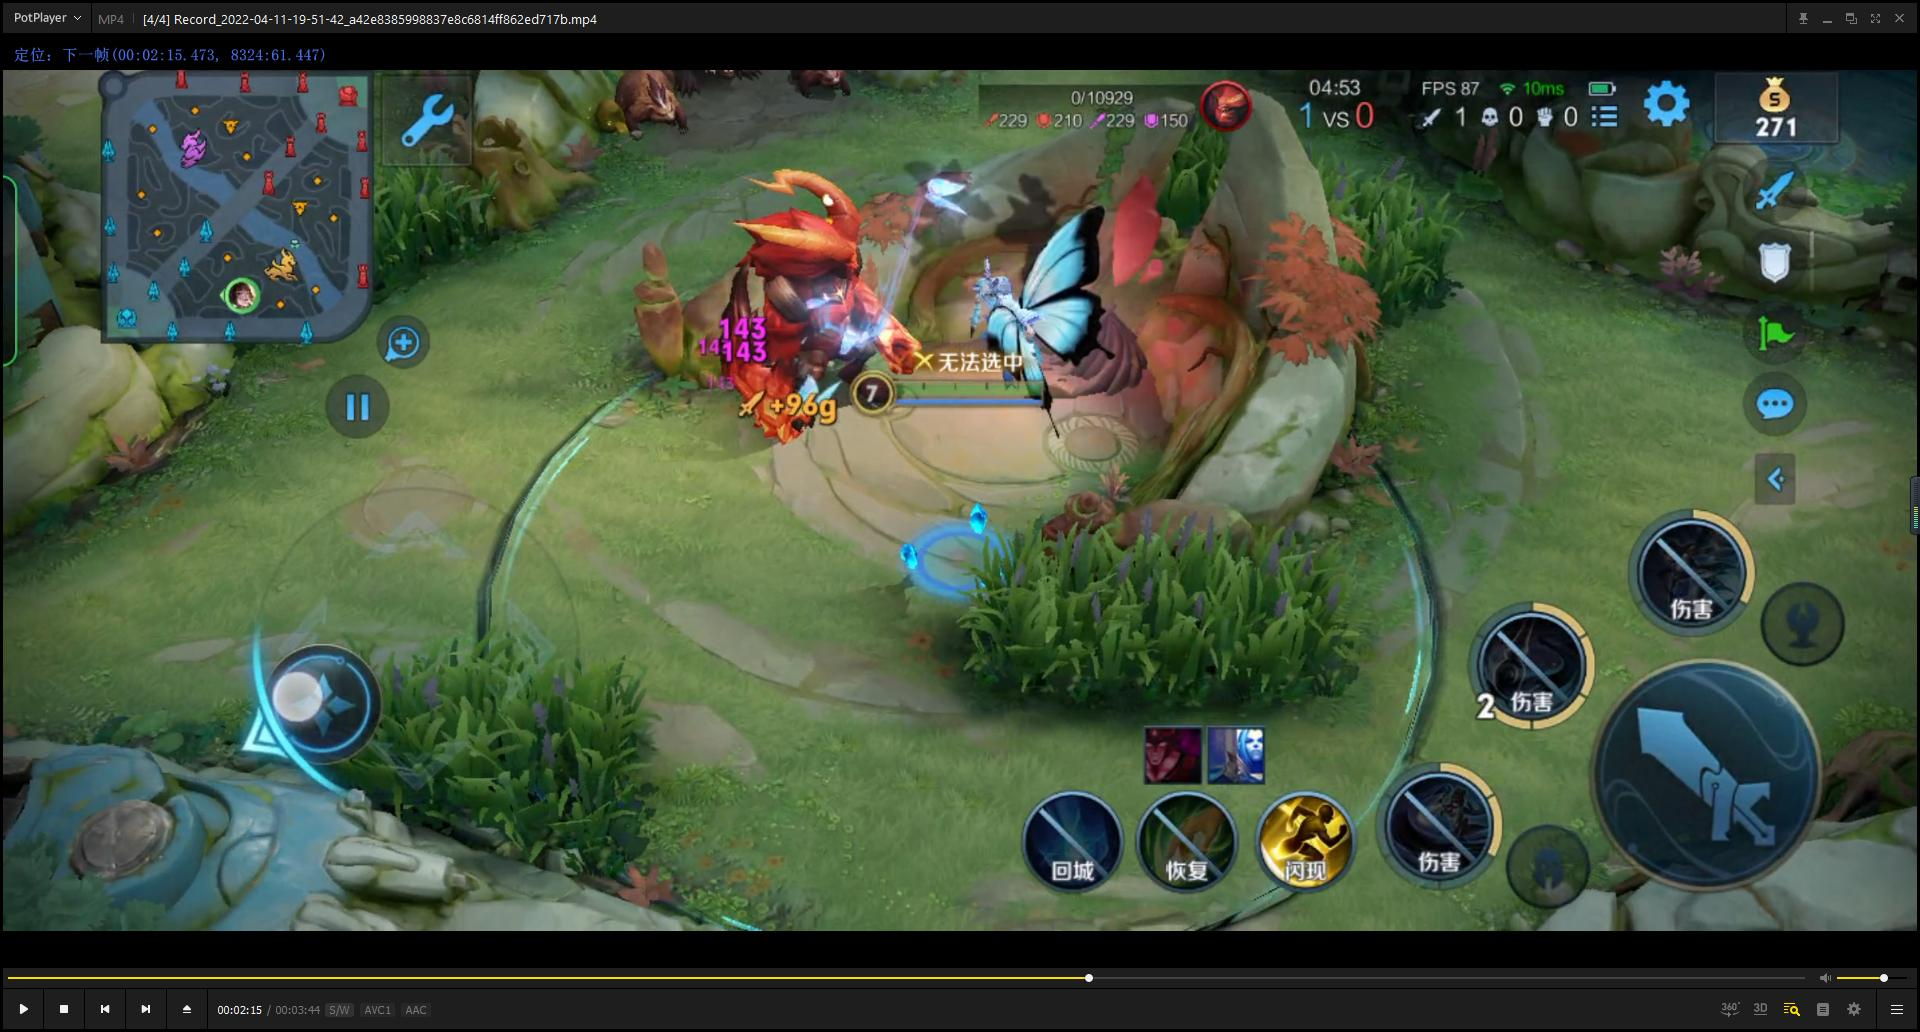Buff: (662, 166, 931, 485)
Hero: (846, 220, 1117, 602)
Pig: (604, 72, 698, 144)
